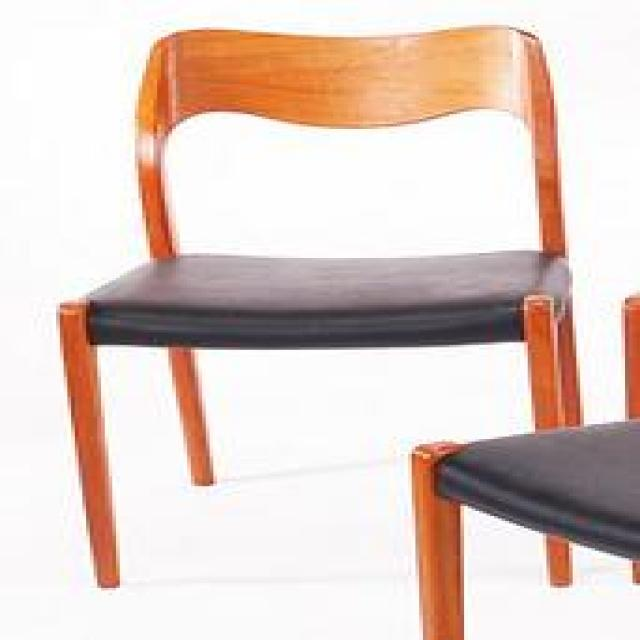chair: (52, 22, 584, 588)
